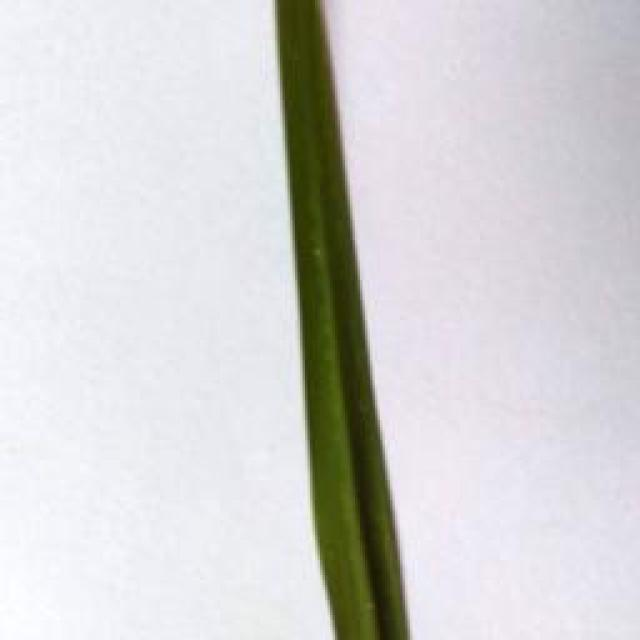Bacterial_Blight: (271, 0, 411, 640)
